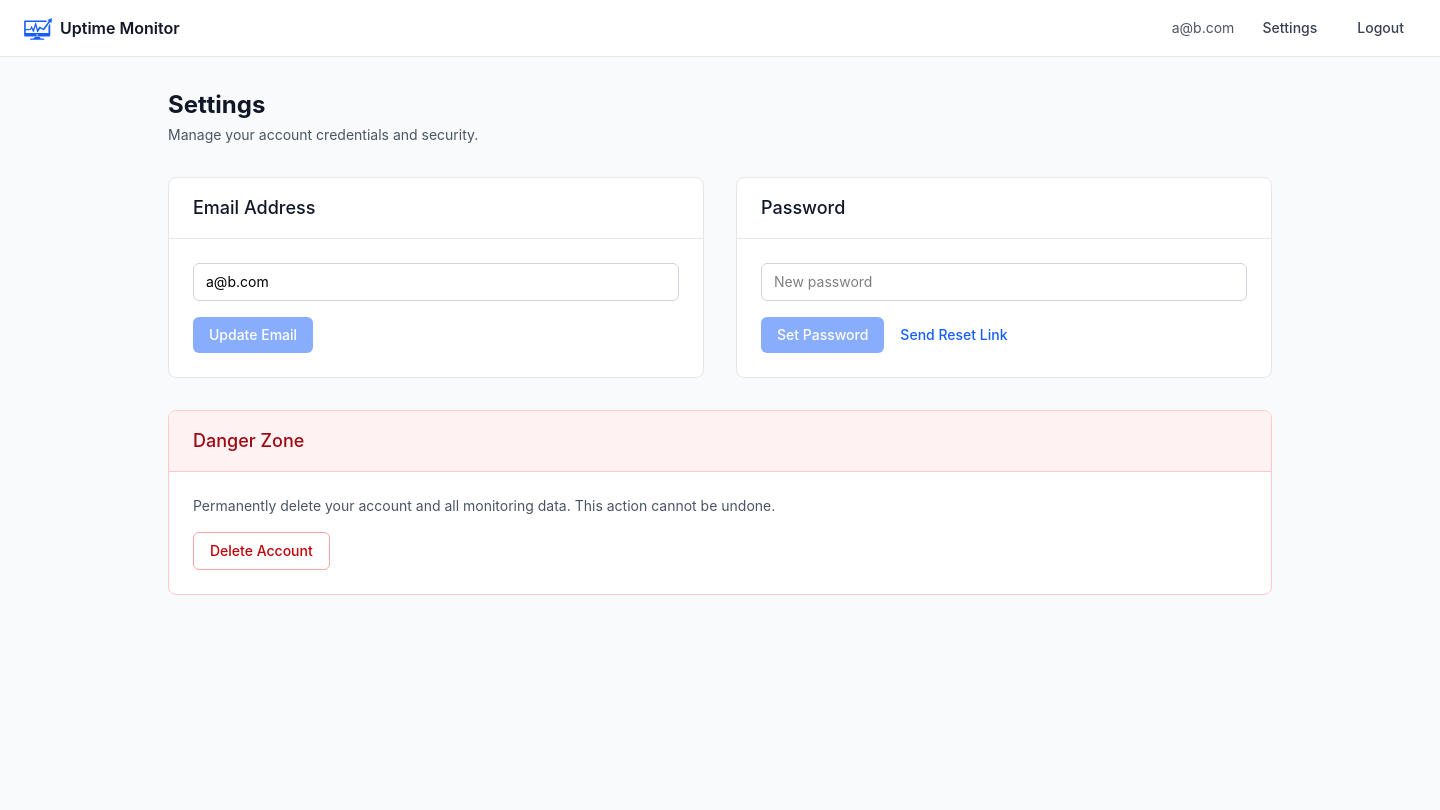
it: Settings › shows error when password reset fails with string error
The width and height of the screenshot is (1440, 810).
Click the button "Send Reset Link". click: x=954, y=335
box: [900,317,1008,353]
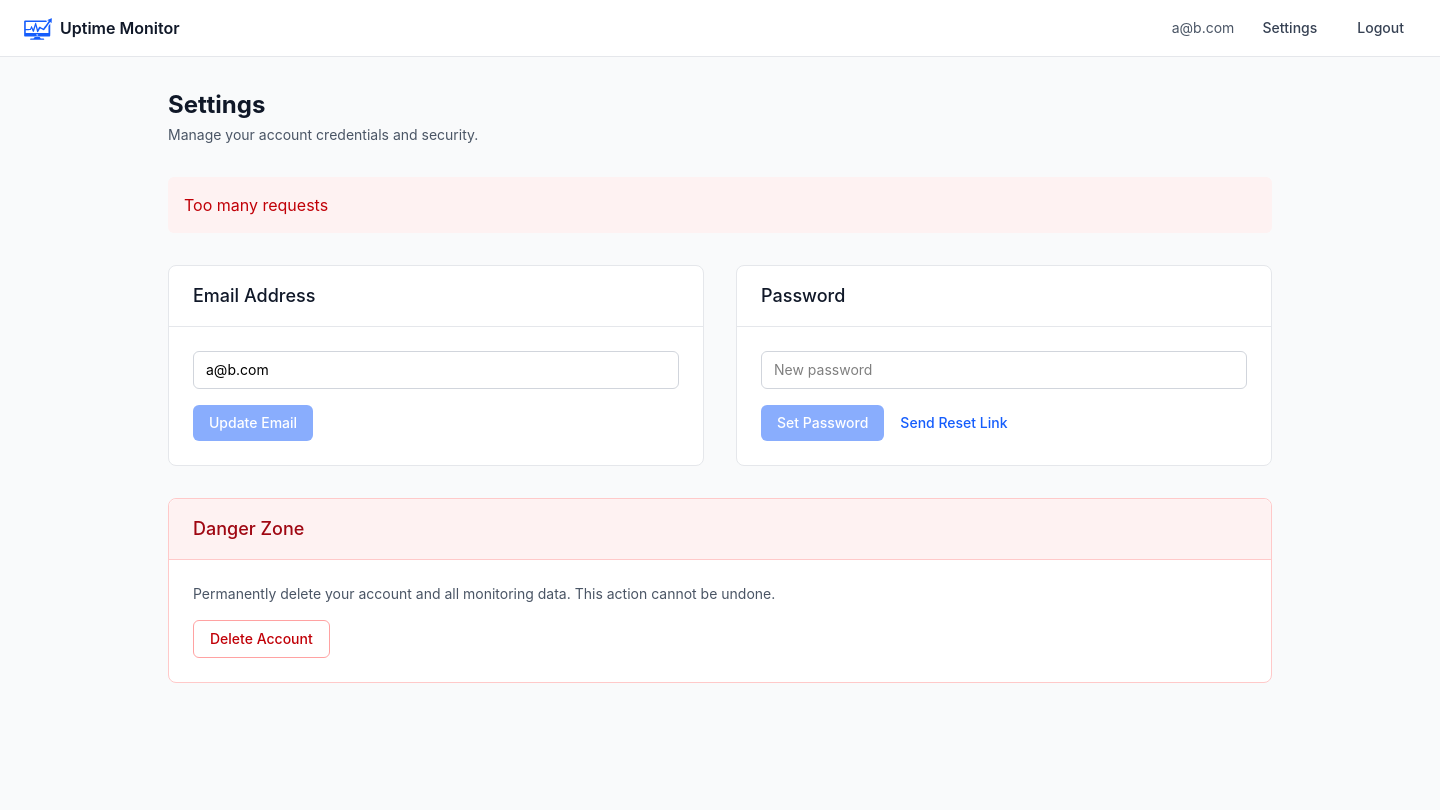
Check: the text "Too many requests" is shown, box [168,177,1272,233]
